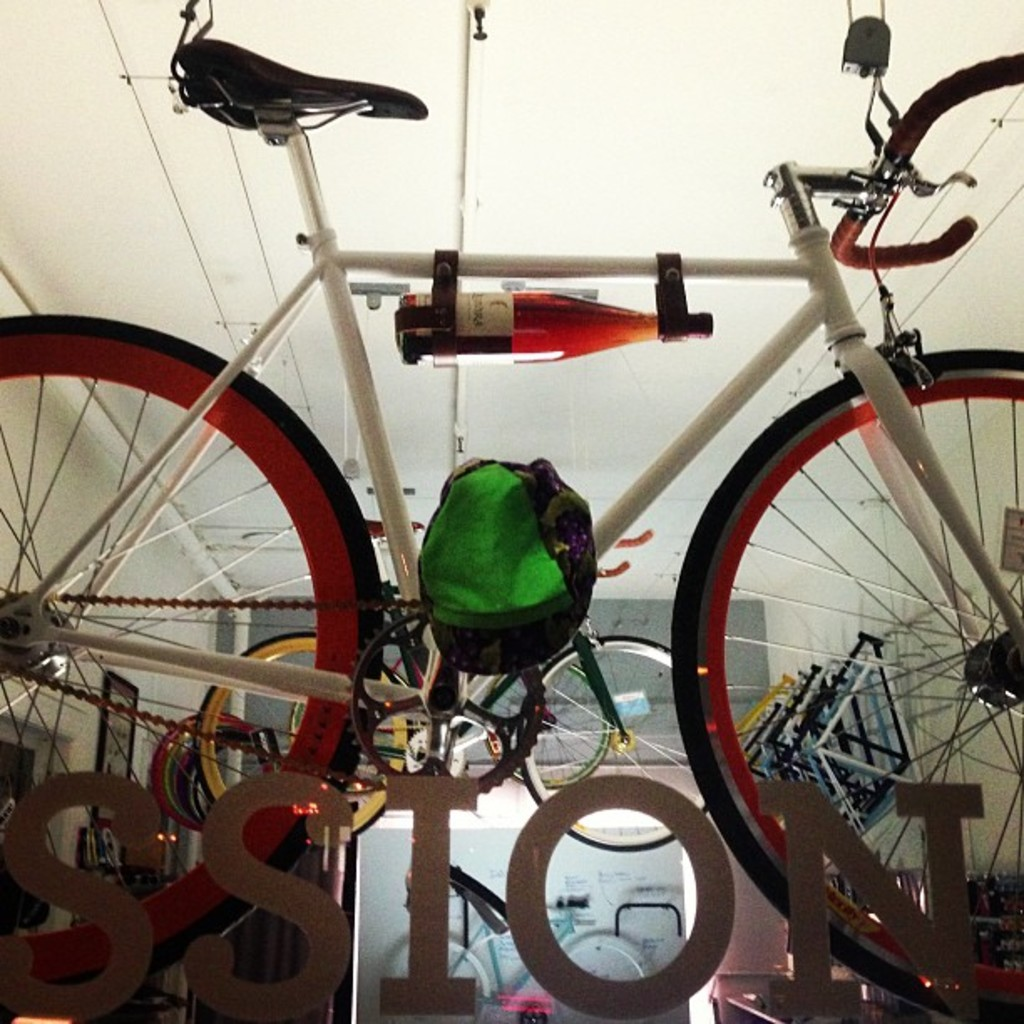Bike: (97, 36, 972, 867)
